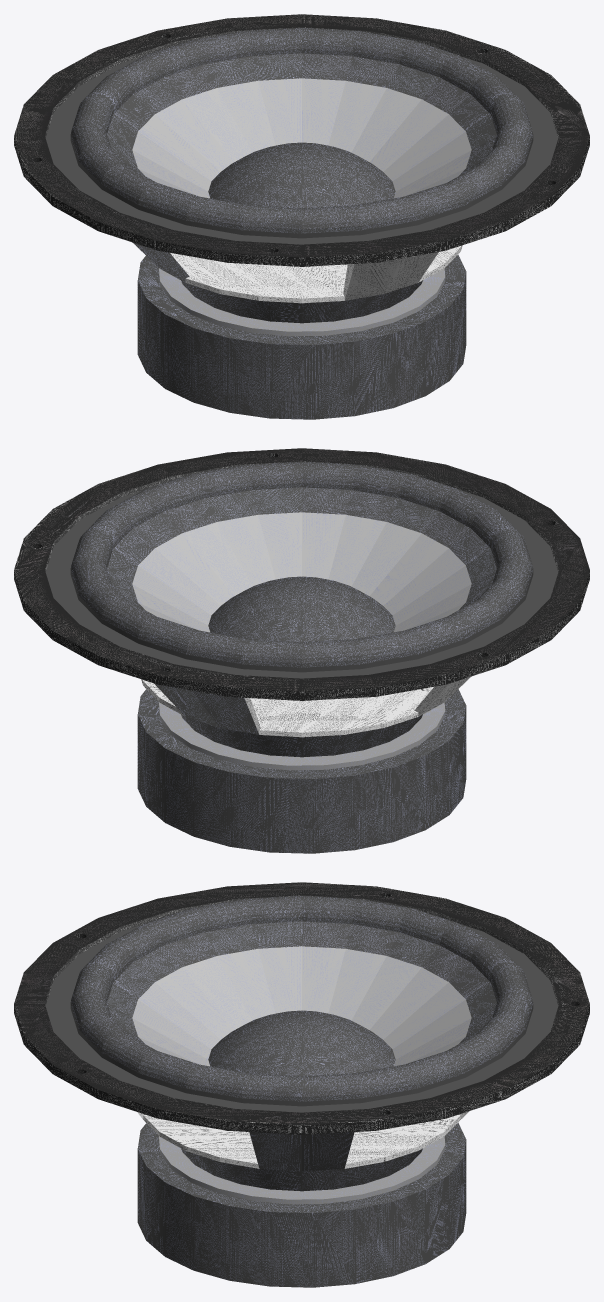
3 renders of one model, top to bottom at view 1: azimuth 30°, elevation 25°; view 2: azimuth 150°, elevation 25°; view 3: azimuth 270°, elevation 25°, orthographic.
Parts seen in each view (by area): view 1: SketchUp (×11); view 2: SketchUp (×11); view 3: SketchUp (×11).
Boxes of the visible parts, bbox=[...] form: SketchUp (×11): bbox=[14, 14, 589, 419]; SketchUp (×11): bbox=[14, 448, 589, 853]; SketchUp (×11): bbox=[14, 882, 589, 1287].
Size of the model in its own units: 7 by 7 by 3.22.
Materials: 8 (2 with a texture image).
